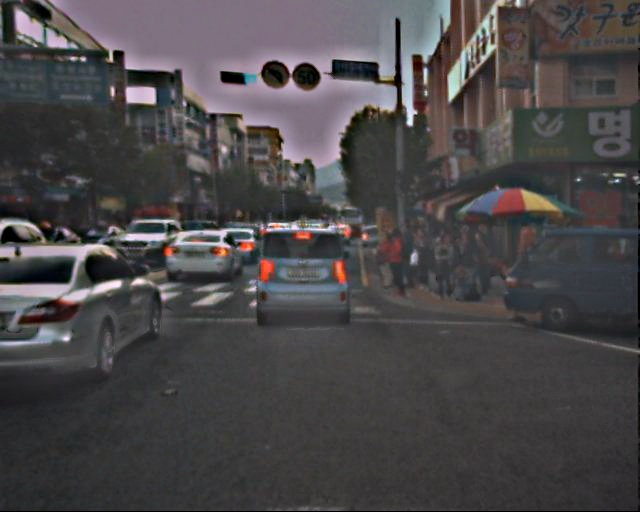person: (431, 232, 458, 298), (473, 219, 499, 283), (467, 234, 493, 297), (512, 220, 537, 282), (408, 224, 433, 285), (387, 230, 410, 286), (456, 232, 479, 287), (373, 231, 395, 284)
